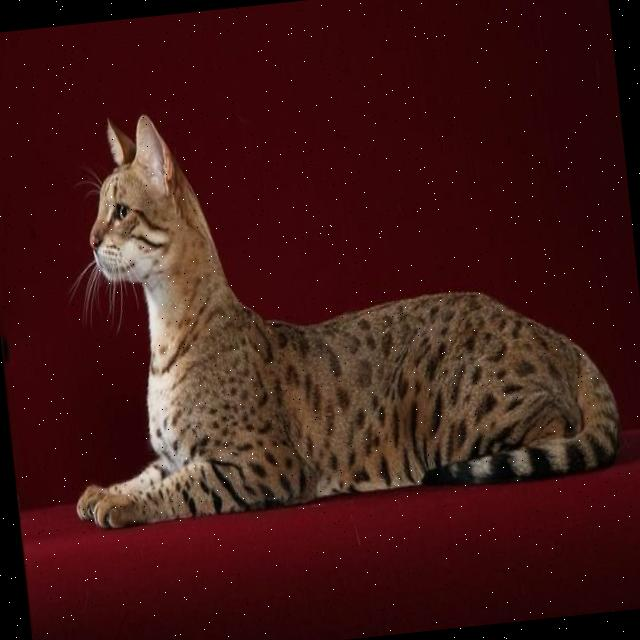cat: (74, 115, 622, 530)
